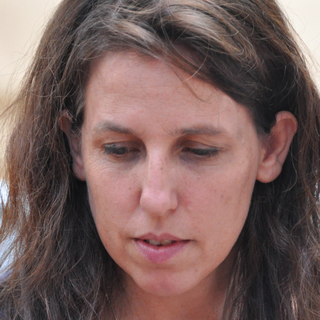eye: (173, 140, 223, 165), (98, 139, 145, 163)
